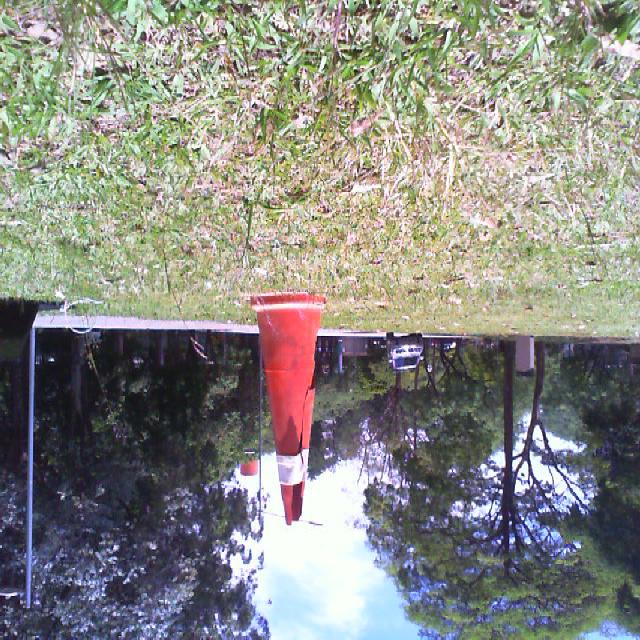cone: (252, 295, 328, 525)
